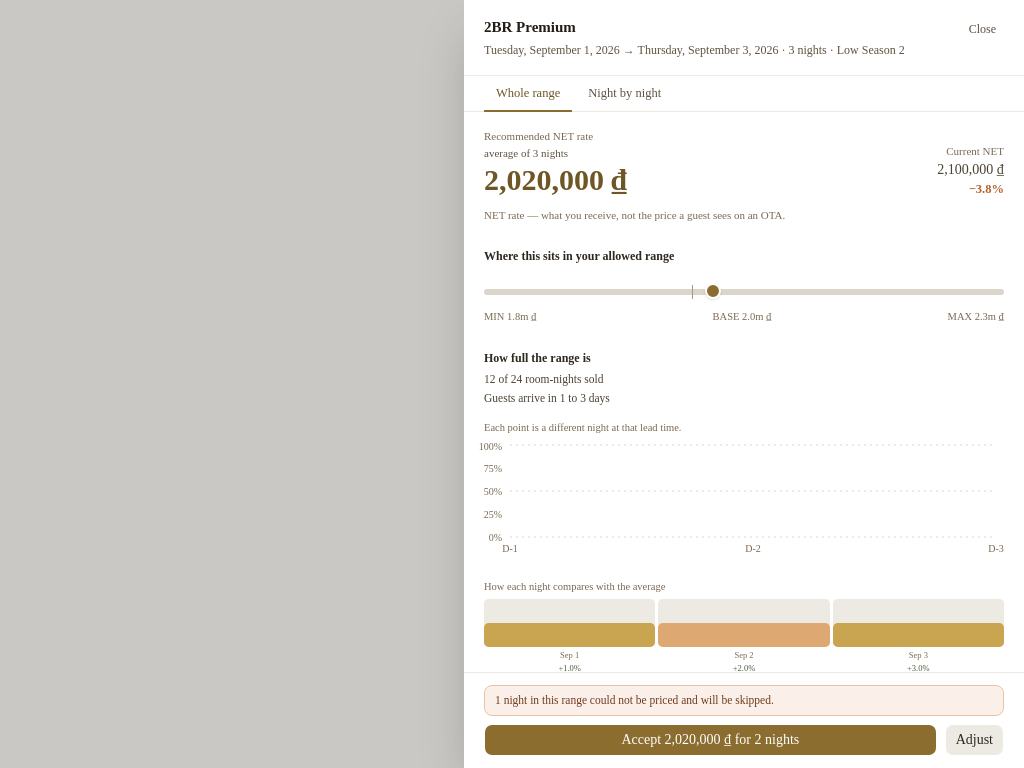
Test case: RangeDrawer › withdraws the accept action on an unpriced night
The image size is (1024, 768).
Click the tab "Night by night" at (625, 94), box [576,76,673,112]
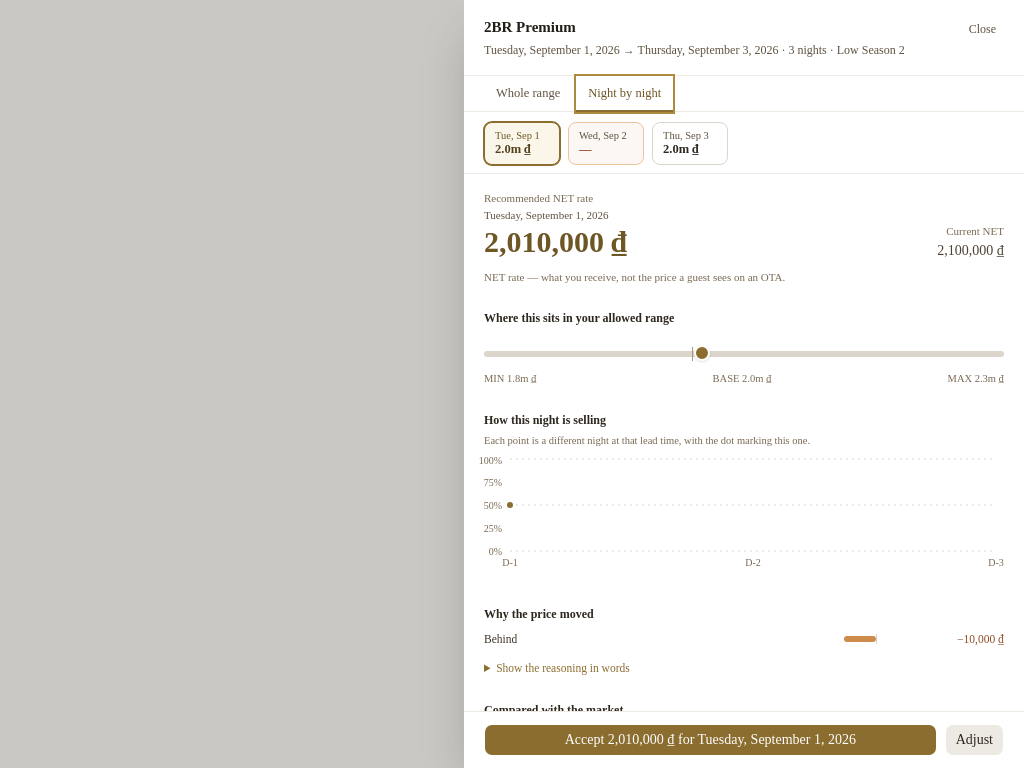
Click the button "Wed, Sep 2 —" at (606, 144), box [568,122,644,165]
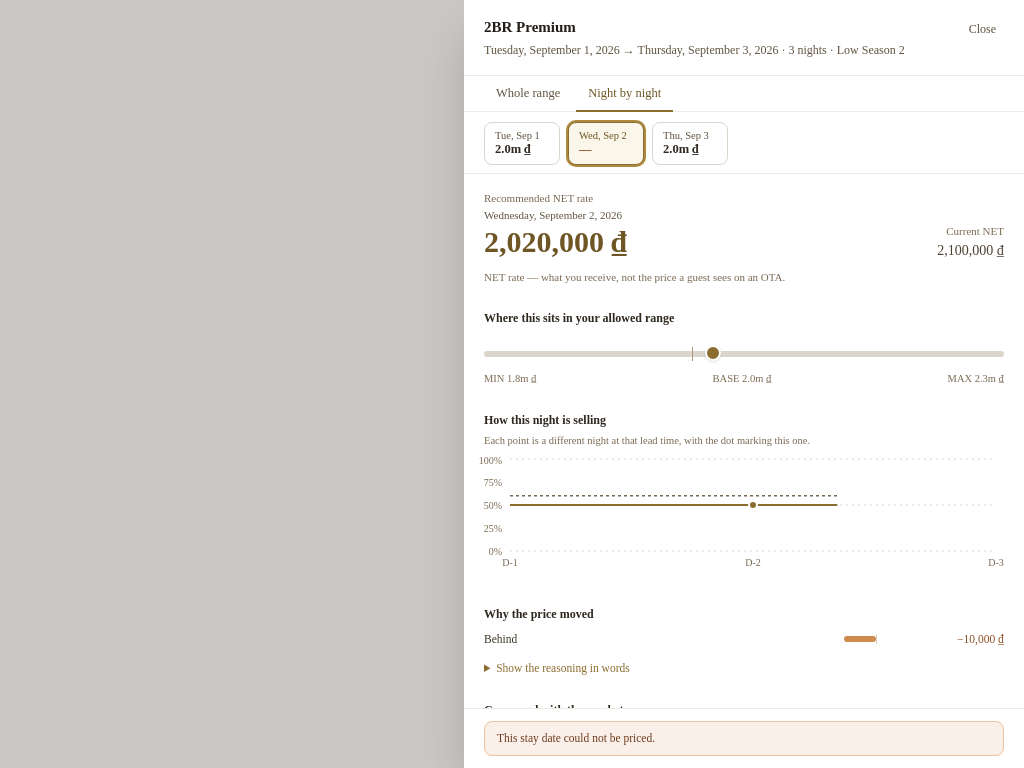
Check: the button "Accept 2,010,000 ₫ for Tuesday, September 1, 2026" is gone
